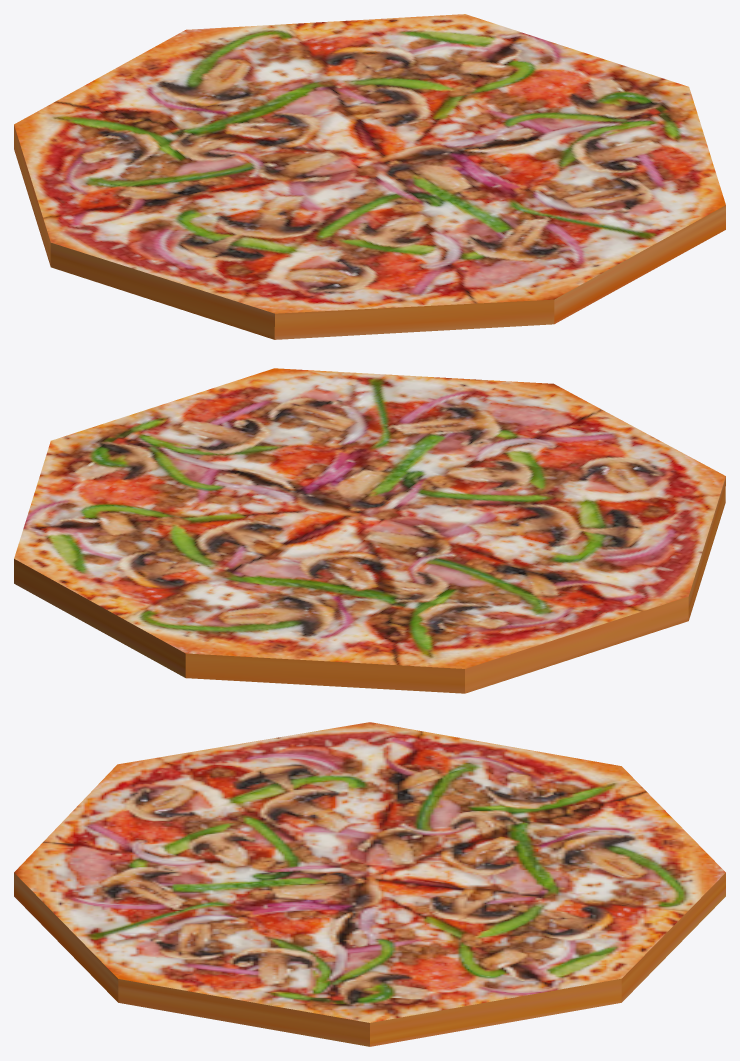
The model's file is veggiepizza.fbx.
3 views of the same model, one above another, from view 1: azimuth 30°, elevation 25°; view 2: azimuth 150°, elevation 25°; view 3: azimuth 270°, elevation 25° (orthographic). The views are drawn at different scales.
Parts seen in each view (by area): view 1: Cylinder; view 2: Cylinder; view 3: Cylinder.
Part boxes in pixels (bbox=[...]): Cylinder: bbox=[14, 14, 725, 339]; Cylinder: bbox=[14, 368, 725, 693]; Cylinder: bbox=[14, 722, 725, 1046].
Size of the model in its own units: 638 by 25.39 by 638.
Materials: 1 (1 with a texture image).
